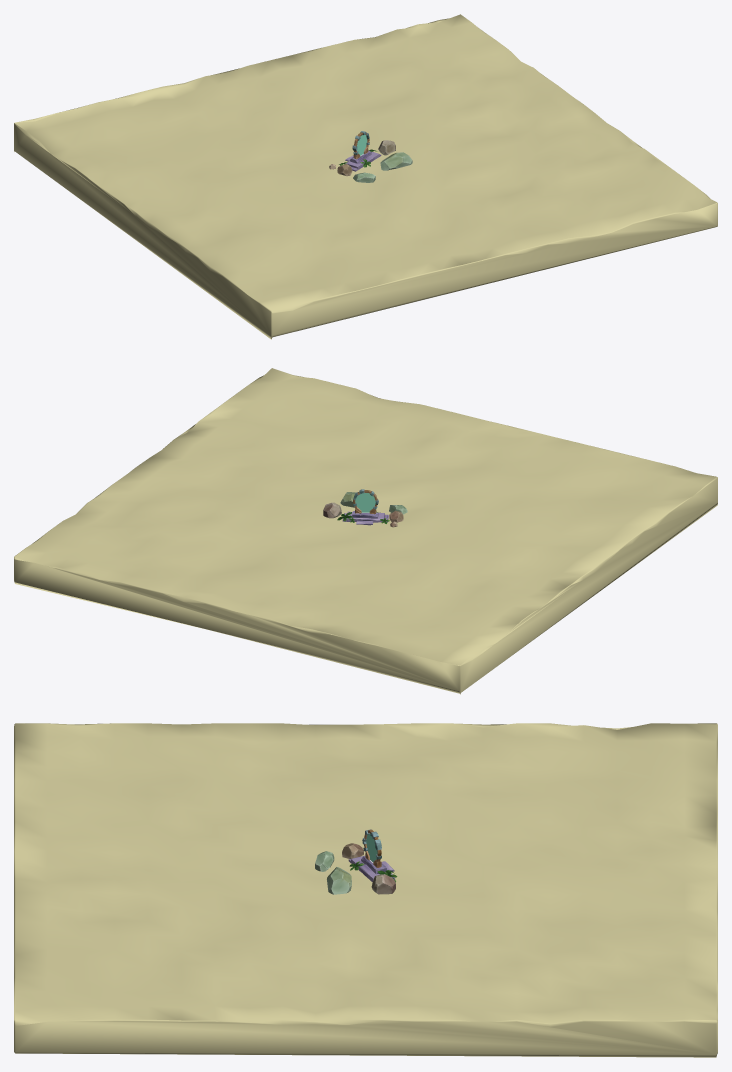
The model's file is StylizedPortal.fbx.
The picture shows the model from 3 angles, top to bottom: view 1: azimuth 30°, elevation 25°; view 2: azimuth 150°, elevation 25°; view 3: azimuth 270°, elevation 25°; orthographic projection. The views are drawn at different scales.
Visible parts, largest first — view 1: Ground, Portal; view 2: Ground, Portal; view 3: Ground, Portal, Rock.004.
Boxes of the visible parts, bbox=[...] form: Ground: bbox=[14, 14, 717, 339]; Portal: bbox=[344, 131, 381, 171]; Ground: bbox=[14, 368, 717, 694]; Portal: bbox=[342, 489, 388, 525]; Ground: bbox=[14, 723, 717, 1057]; Portal: bbox=[348, 829, 395, 881]; Rock.004: bbox=[327, 867, 351, 894].
Size of the model in its own units: 4854 by 605 by 4854.
